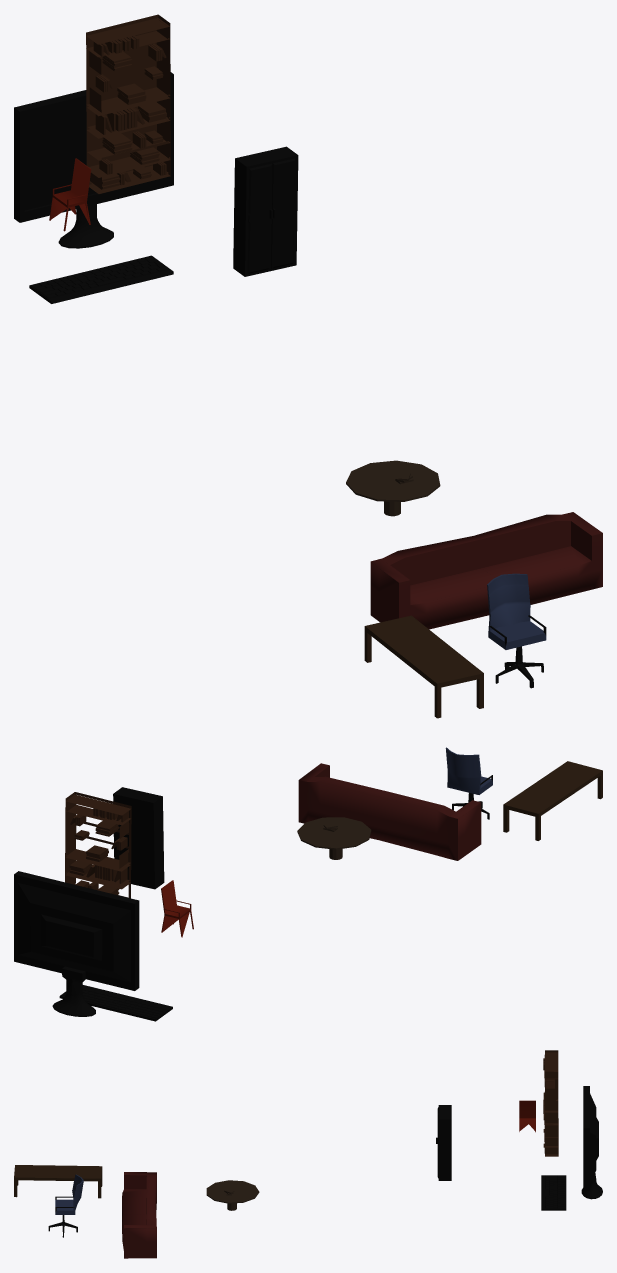
File: Couch_Chair_Table 2.fbx
The picture shows the model from 3 angles, top to bottom: view 1: azimuth 30°, elevation 25°; view 2: azimuth 150°, elevation 25°; view 3: azimuth 270°, elevation 25°; orthographic projection. The views are drawn at different scales.
Visible parts, largest first — view 1: LOWPCOUCH, BOOK SHELF, Computer, STORAGE, LOWTABLE, LOWUpstairsChair, LOWCircleTable, Cube.434, Chair.027; view 2: Computer, LOWPCOUCH, BOOK SHELF, STORAGE, LOWTABLE, LOWCircleTable, Cube.434, LOWUpstairsChair, Chair.027; view 3: LOWPCOUCH, BOOK SHELF, Computer, LOWTABLE, STORAGE, LOWCircleTable, Cube.434, LOWUpstairsChair, Chair.027.
Part boxes in pixels (<box>): LOWPCOUCH: <box>370,512,602,629</box>; BOOK SHELF: <box>86,14,170,193</box>; Computer: <box>14,72,173,248</box>; STORAGE: <box>233,146,298,276</box>; LOWTABLE: <box>364,615,483,718</box>; LOWUpstairsChair: <box>487,573,546,688</box>; LOWCircleTable: <box>346,460,440,516</box>; Cube.434: <box>29,255,173,303</box>; Chair.027: <box>49,158,91,231</box>; Computer: <box>14,871,139,1016</box>; LOWPCOUCH: <box>298,763,481,860</box>; BOOK SHELF: <box>65,792,131,898</box>; STORAGE: <box>113,787,164,889</box>; LOWTABLE: <box>503,761,602,840</box>; LOWCircleTable: <box>297,817,371,859</box>; Cube.434: <box>59,985,172,1021</box>; LOWUpstairsChair: <box>445,747,492,819</box>; Chair.027: <box>161,880,193,937</box>; LOWPCOUCH: <box>122,1172,156,1258</box>; BOOK SHELF: <box>543,1050,558,1156</box>; Computer: <box>581,1086,602,1199</box>; LOWTABLE: <box>14,1165,102,1198</box>; STORAGE: <box>436,1105,451,1180</box>; LOWCircleTable: <box>206,1180,259,1210</box>; Cube.434: <box>541,1175,566,1210</box>; LOWUpstairsChair: <box>48,1174,83,1237</box>; Chair.027: <box>519,1100,535,1132</box>.
Size of the model in its own units: 391 by 463 by 1348.
